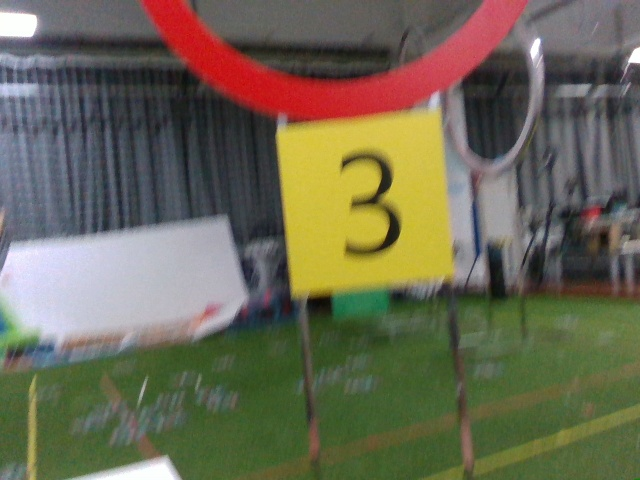target: (282, 118, 442, 285)
